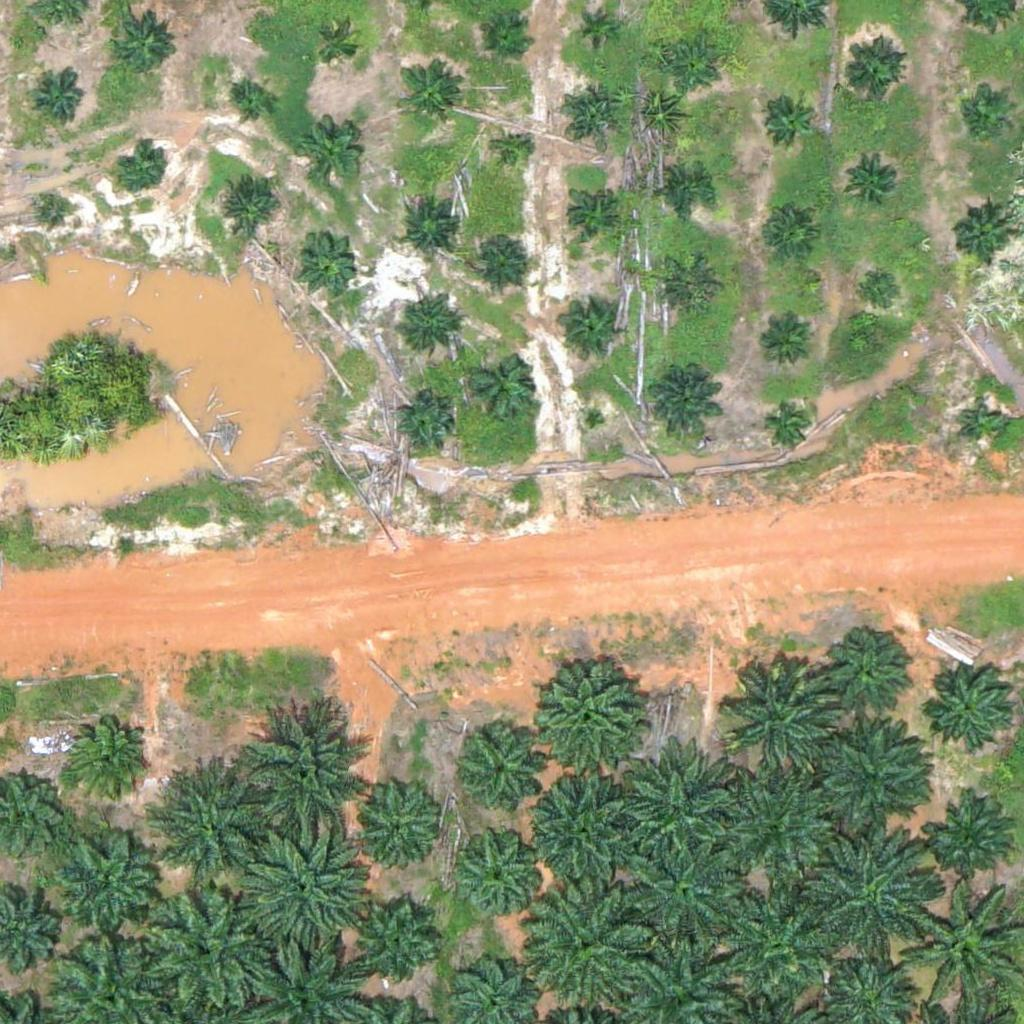Kelapa_Sawit: (721, 654, 846, 780), (713, 762, 838, 888), (718, 890, 843, 1016), (624, 831, 749, 957), (618, 751, 743, 877), (522, 771, 647, 897), (244, 704, 369, 830), (239, 825, 364, 951), (153, 760, 278, 886), (148, 885, 273, 1011), (803, 833, 928, 959), (533, 882, 658, 1007), (807, 712, 932, 837), (527, 657, 640, 771), (60, 832, 160, 933), (347, 773, 447, 873), (928, 790, 1015, 879), (459, 829, 546, 917), (458, 730, 545, 818), (352, 902, 439, 990), (62, 716, 149, 804), (825, 635, 912, 723), (923, 661, 1010, 749), (646, 362, 721, 438), (460, 349, 535, 425), (559, 79, 622, 142), (296, 120, 359, 183), (840, 41, 903, 104), (845, 148, 908, 211), (393, 297, 456, 360), (292, 229, 355, 292), (560, 298, 623, 361), (392, 394, 455, 457), (951, 207, 1014, 270), (395, 61, 457, 124), (112, 9, 174, 72), (659, 257, 721, 320), (215, 174, 277, 237), (400, 199, 462, 261), (467, 227, 529, 289), (665, 44, 715, 95), (760, 95, 810, 146), (764, 208, 814, 259), (958, 399, 1008, 450), (857, 266, 907, 317), (660, 166, 710, 216), (34, 76, 84, 126), (115, 143, 165, 193), (959, 89, 1009, 139), (759, 319, 809, 369), (564, 189, 614, 239), (765, 400, 815, 450), (480, 14, 530, 64), (311, 23, 361, 73), (226, 80, 276, 130), (496, 135, 534, 173), (575, 10, 612, 48), (40, 196, 65, 221)
